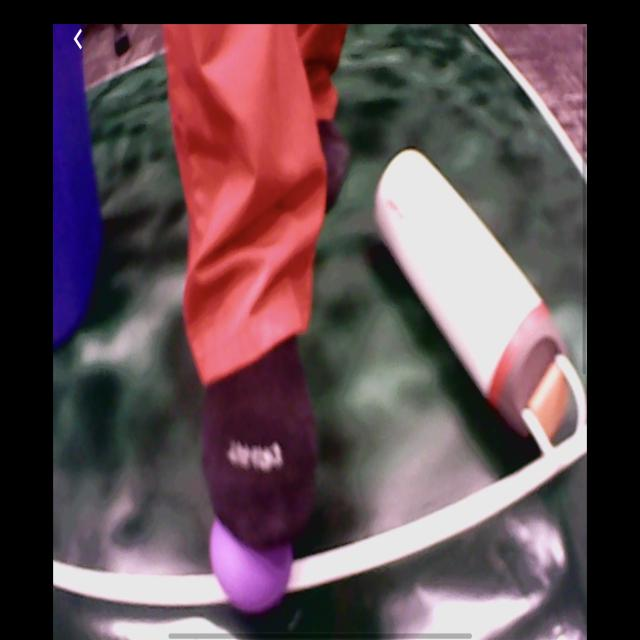ball: (210, 517, 294, 613)
